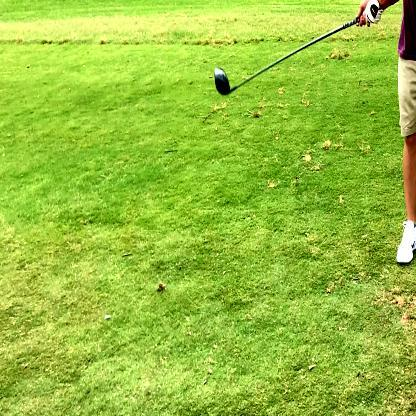GolfBall: (212, 63, 236, 100)
